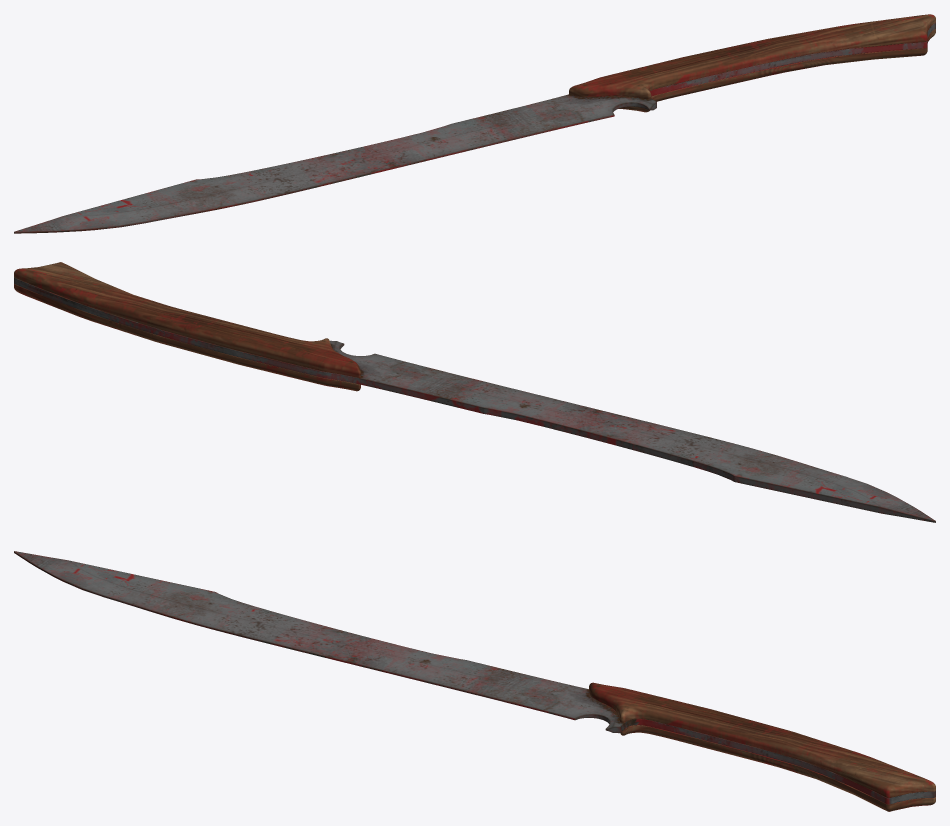
File: rustic_blade.glb
3 renders of one model, top to bottom at view 1: azimuth 30°, elevation 25°; view 2: azimuth 150°, elevation 25°; view 3: azimuth 330°, elevation 25°, orthographic. The views are drawn at different scales.
Parts seen in each view (by area): view 1: Extruded.001_0, Sheet_41_1; view 2: Extruded.001_0, Sheet_41_1; view 3: Extruded.001_0, Sheet_41_1.
Part boxes in pixels (x1=…): Extruded.001_0: x1=14, y1=22, x2=935, y2=233; Sheet_41_1: x1=569, y1=14, x2=935, y2=112; Extruded.001_0: x1=14, y1=277, x2=935, y2=522; Sheet_41_1: x1=14, y1=262, x2=360, y2=391; Extruded.001_0: x1=14, y1=551, x2=935, y2=804; Sheet_41_1: x1=589, y1=682, x2=935, y2=811.
Size of the model in its own units: 5.33 by 0.1402 by 0.4262.
1 material, 1 textured.
